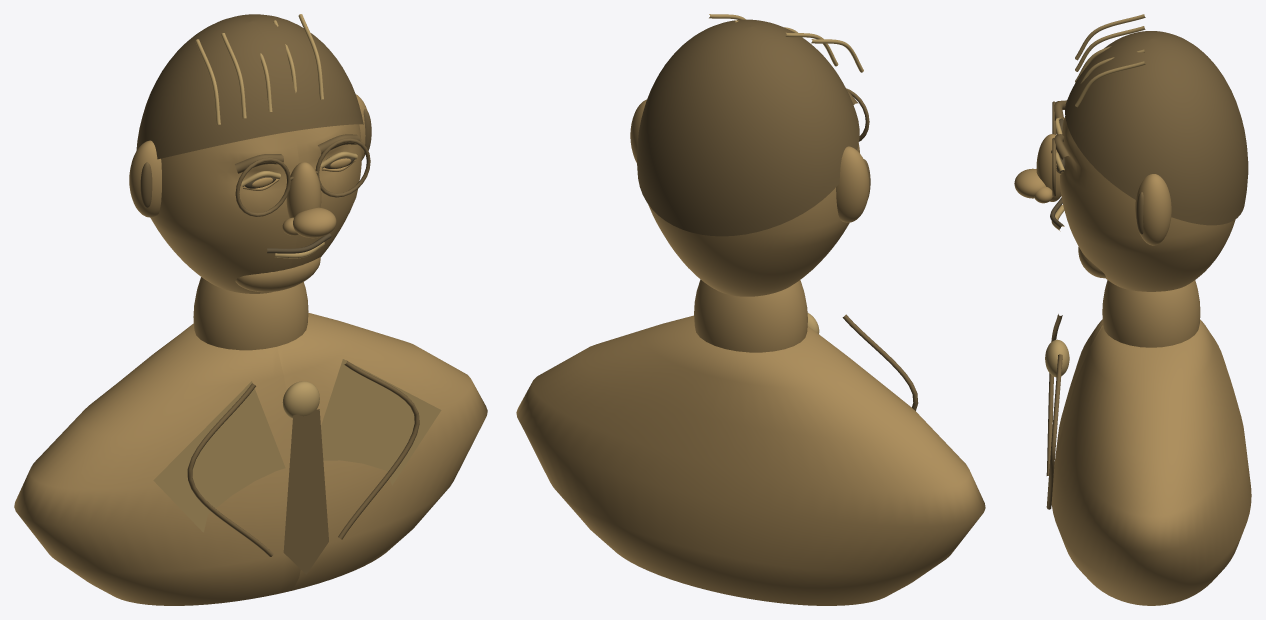
File: itamar.glb
3 views of the same model, side by side, from view 1: azimuth 30°, elevation 25°; view 2: azimuth 150°, elevation 25°; view 3: azimuth 270°, elevation 25° (orthographic). The views are drawn at different scales.
Parts seen in each view (by area): view 1: itamar; view 2: itamar; view 3: itamar.
Boxes of the visible parts, bbox=[...] form: itamar: bbox=[14, 14, 487, 605]; itamar: bbox=[516, 14, 985, 605]; itamar: bbox=[1014, 14, 1251, 605].
Size of the model in its own units: 1.22 by 1.36 by 0.58.
